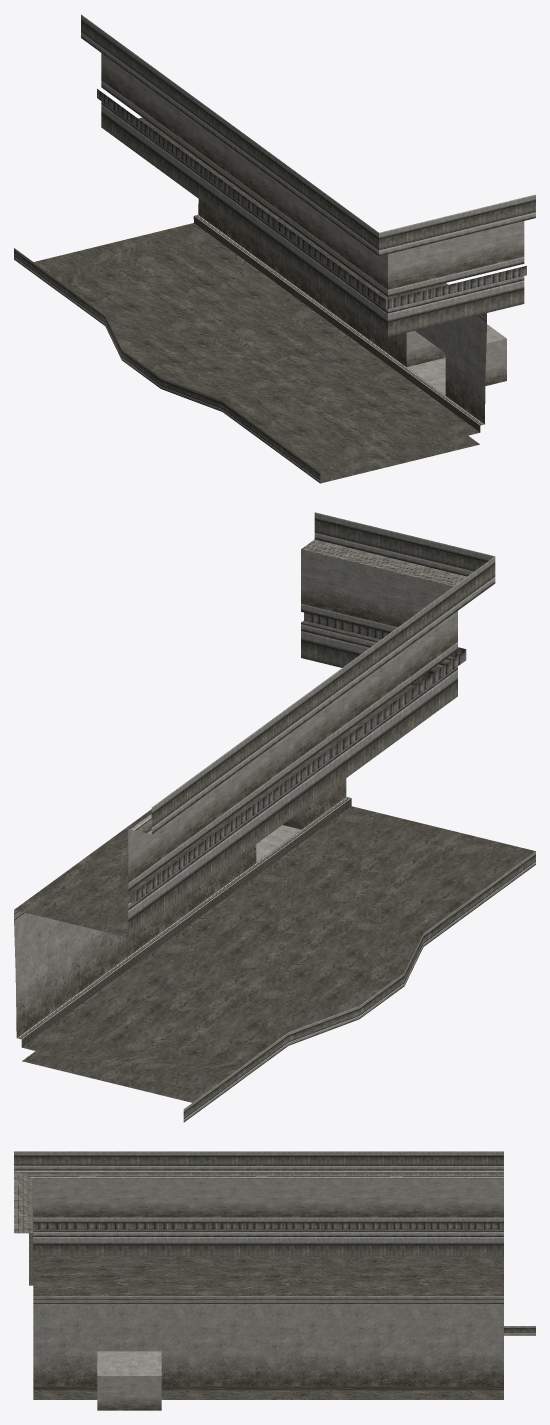
The model's file is DWARF_PALACE_ARKENSTONE_ROOM_BACKWALLA.fbx.
The picture shows the model from 3 angles, top to bottom: view 1: azimuth 30°, elevation 25°; view 2: azimuth 150°, elevation 25°; view 3: azimuth 270°, elevation 25°; orthographic projection. The views are drawn at different scales.
Parts seen in each view (by area): view 1: DWARF_PALACE_ARKENSTONE_ROOM_BACKWALLA; view 2: DWARF_PALACE_ARKENSTONE_ROOM_BACKWALLA; view 3: DWARF_PALACE_ARKENSTONE_ROOM_BACKWALLA.
Boxes of the visible parts, <box> form: DWARF_PALACE_ARKENSTONE_ROOM_BACKWALLA: <box>14,14,535,483</box>; DWARF_PALACE_ARKENSTONE_ROOM_BACKWALLA: <box>14,512,535,1122</box>; DWARF_PALACE_ARKENSTONE_ROOM_BACKWALLA: <box>14,1151,535,1410</box>.
Bounding box in the file's own units: 110066 × 105000 × 244001.
7 materials, 7 textured.
